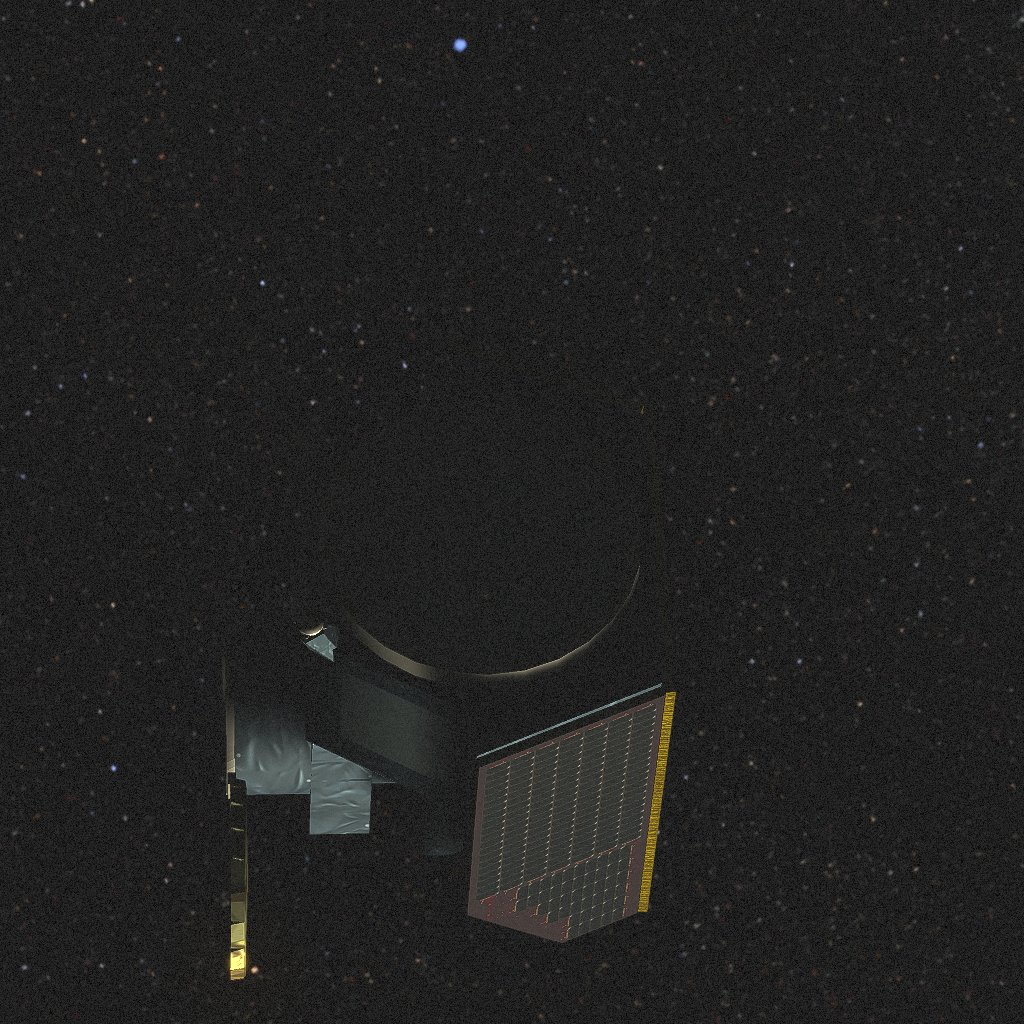cheops: (222, 343, 676, 982)
